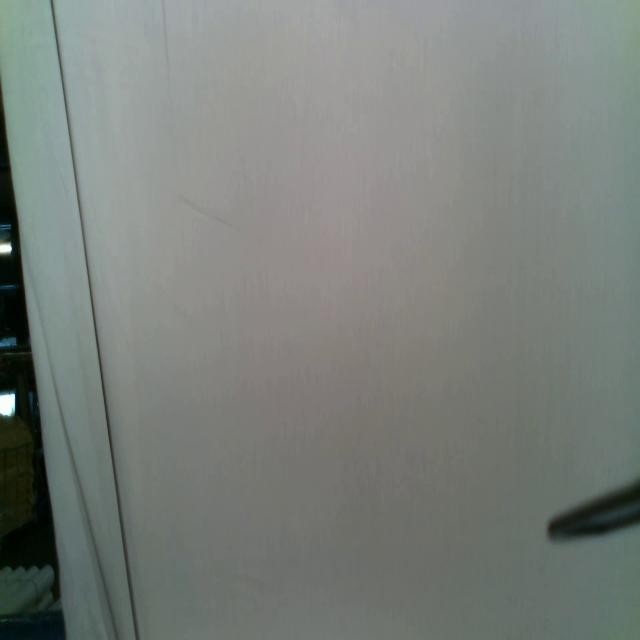crease: (52, 0, 137, 635)
